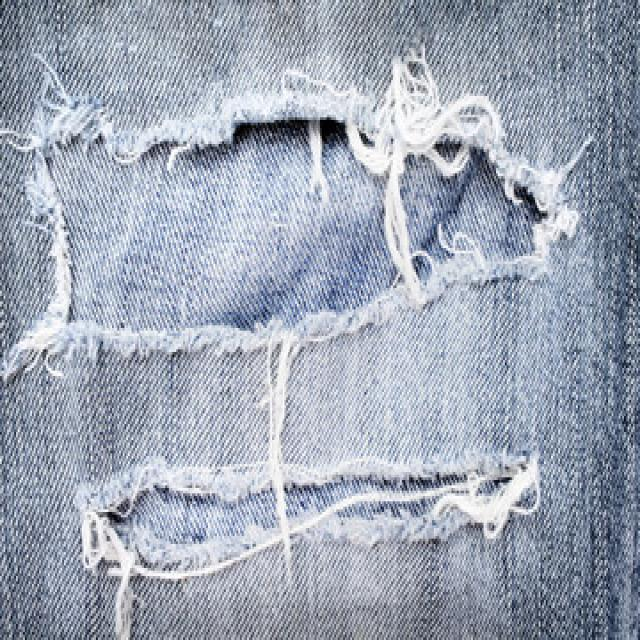Hole: (20, 68, 573, 460), (80, 465, 282, 580), (284, 457, 540, 546)
